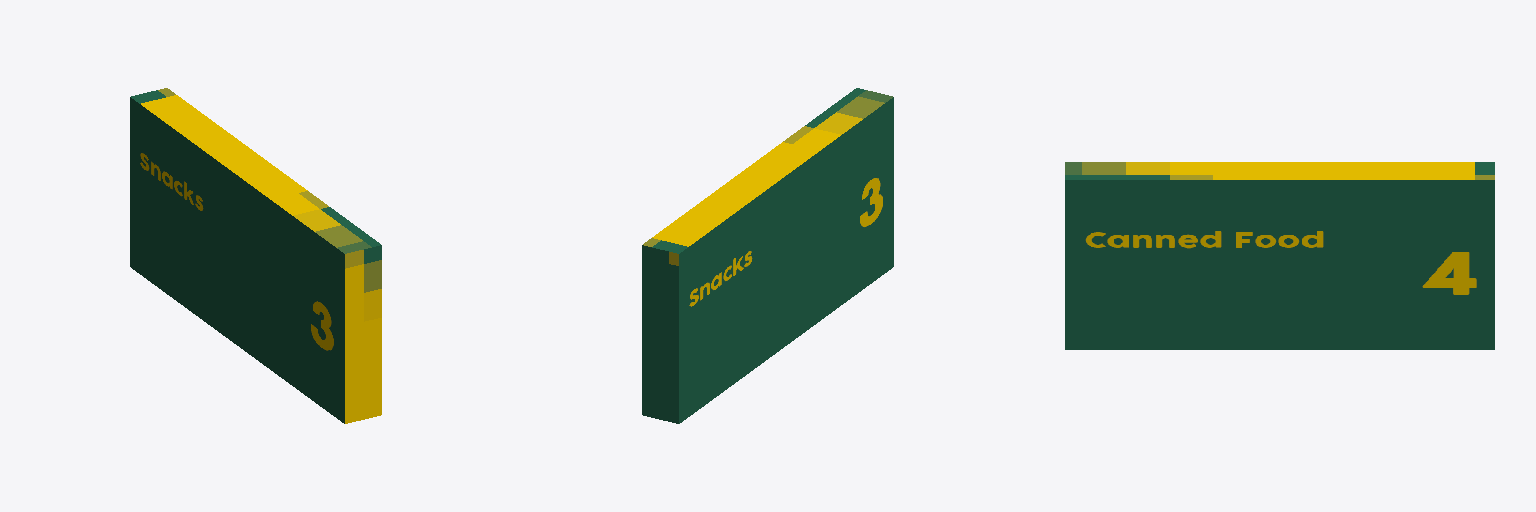
The picture shows the model from 3 angles: view 1: azimuth 30°, elevation 25°; view 2: azimuth 150°, elevation 25°; view 3: azimuth 270°, elevation 25°; orthographic projection.
Visible parts, largest first — view 1: pCube1; view 2: pCube1; view 3: pCube1.
Boxes of the visible parts, x1=… form: pCube1: x1=130, y1=88, x2=381, y2=423; pCube1: x1=642, y1=88, x2=893, y2=423; pCube1: x1=1065, y1=162, x2=1494, y2=349.
Size of the model in its own units: 0.5 by 2.19 by 5.
Materials: 1 (1 with a texture image).